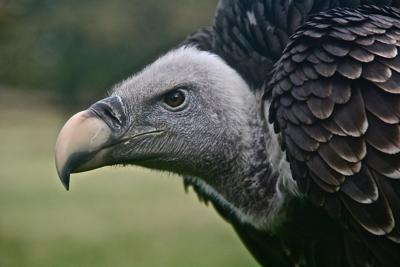Pengoyak Daging: (40, 108, 108, 196)
